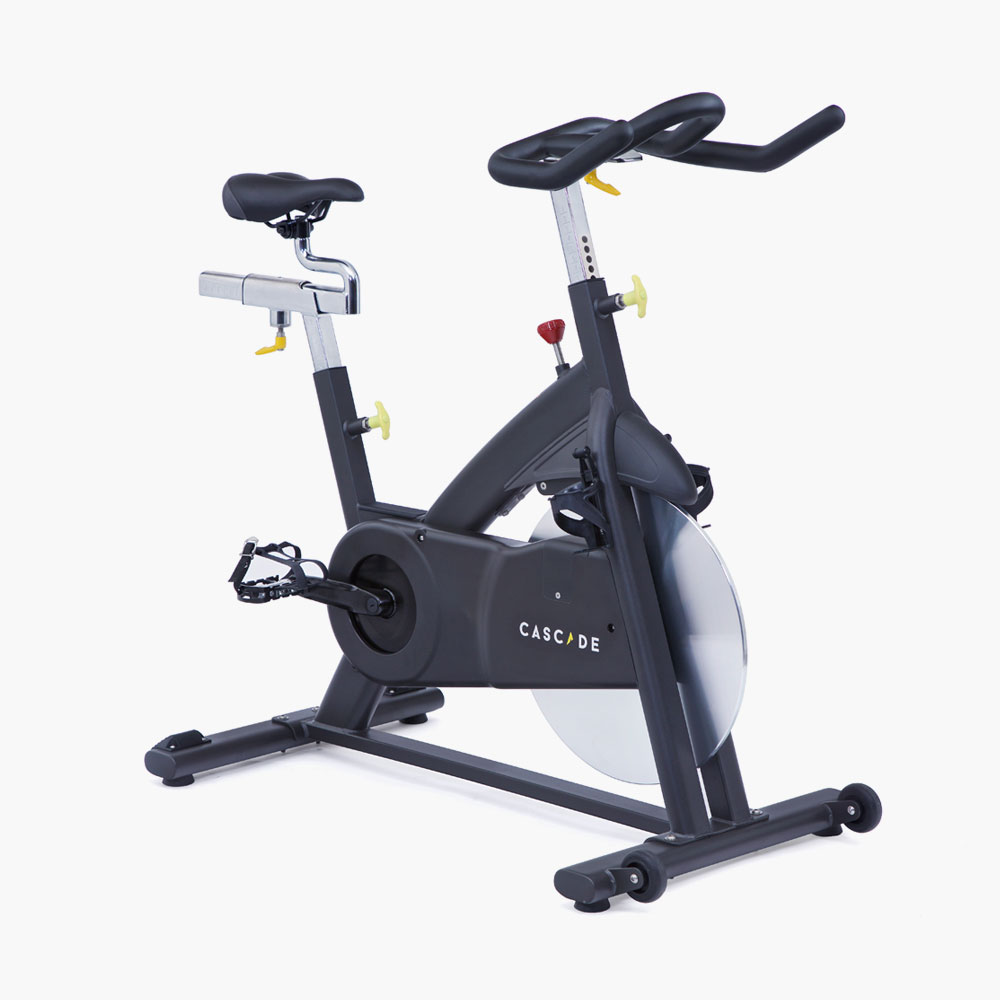gym_bike: (153, 90, 886, 916)
